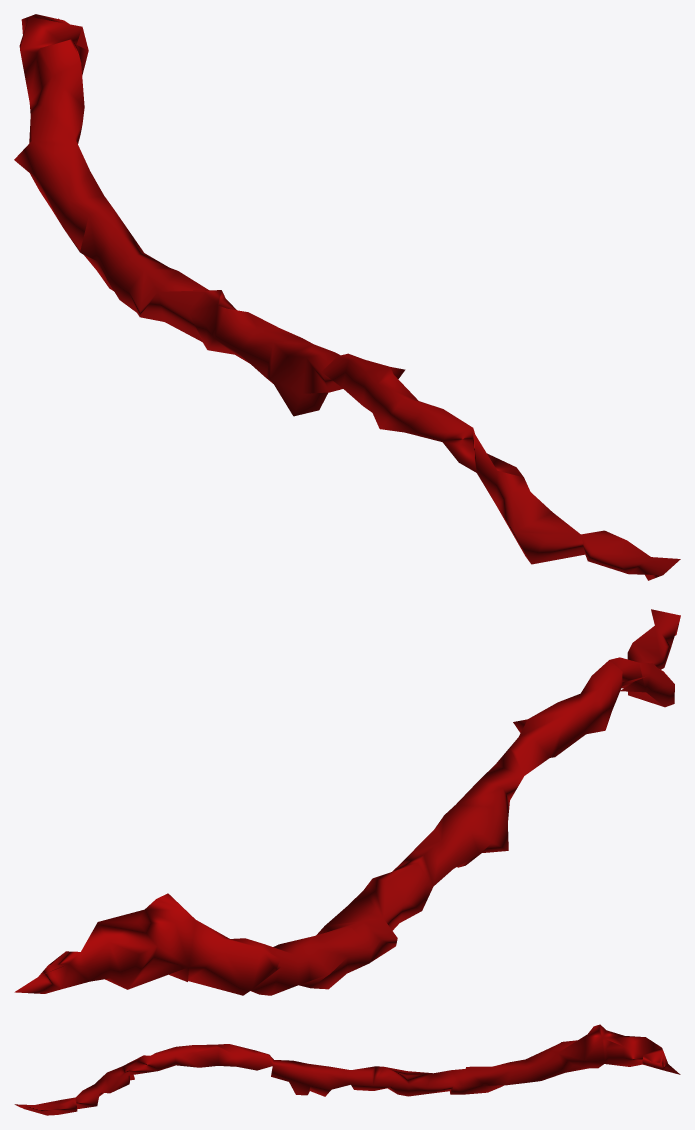
File: branches_b.glb
3 views of the same model, one above another, from view 1: azimuth 30°, elevation 25°; view 2: azimuth 150°, elevation 25°; view 3: azimuth 270°, elevation 25° (orthographic). The views are drawn at different scales.
Parts seen in each view (by area): view 1: LOD0; view 2: LOD0; view 3: LOD0.
Part boxes in pixels (<box>): LOD0: <box>14,14,680,580</box>; LOD0: <box>14,609,680,995</box>; LOD0: <box>14,1024,680,1115</box>.
Size of the model in its own units: 0.1453 by 0.1379 by 1.02.
